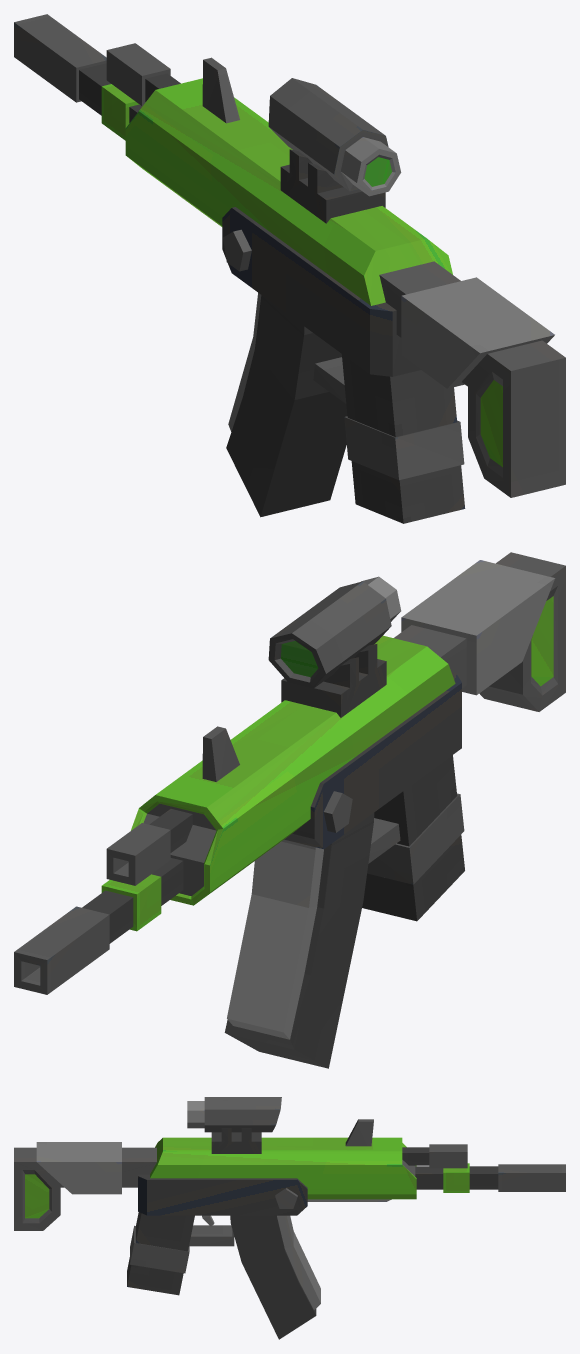
The model's file is smg_1.glb.
3 renders of one model, top to bottom at view 1: azimuth 30°, elevation 25°; view 2: azimuth 150°, elevation 25°; view 3: azimuth 270°, elevation 25°, orthographic. The views are drawn at different scales.
Visible parts, largest first — view 1: subfusil_1_texture_0; view 2: subfusil_1_texture_0; view 3: subfusil_1_texture_0.
Boxes of the visible parts, <box> form: subfusil_1_texture_0: <box>14,14,565,523</box>; subfusil_1_texture_0: <box>14,552,565,1068</box>; subfusil_1_texture_0: <box>14,1097,565,1339</box>.
Size of the model in its own units: 0.0798 by 0.297 by 0.6371.
Materials: 1 (1 with a texture image).
